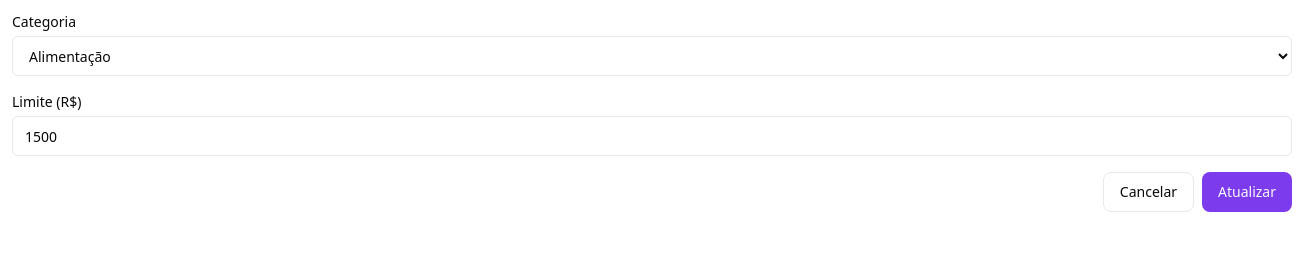
Test case: BudgetForm › should validate limit is required
The image size is (1304, 265).
Replace the text in the number field showing "1500" with "-1" at (652, 136), box [12,116,1292,156]
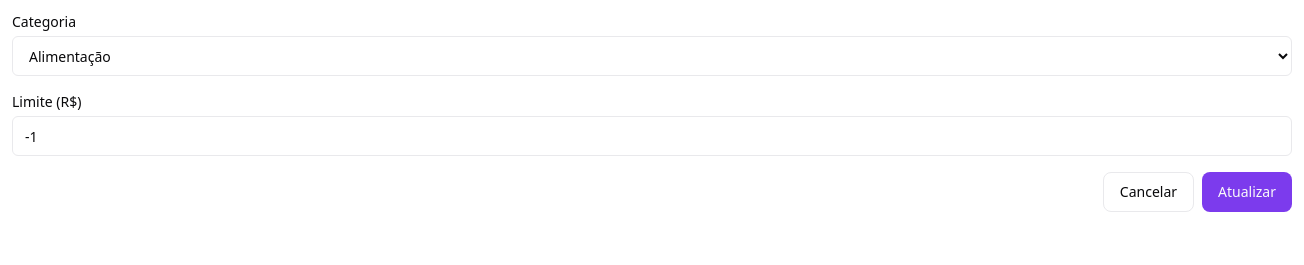
Submit the form
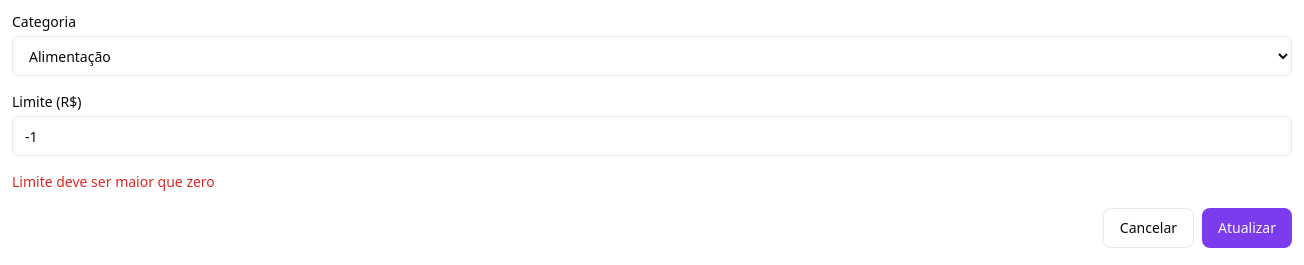
Now the text "Limite deve ser maior que zero" is shown, box [12,172,215,191]
